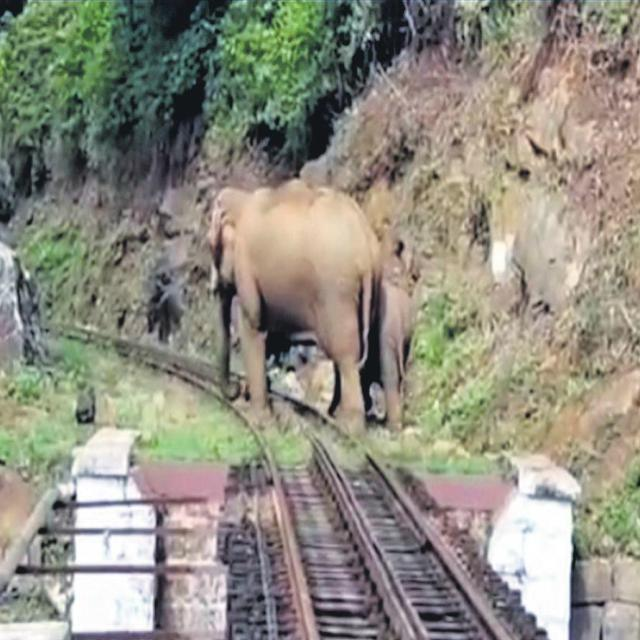Elephant: (196, 166, 380, 438), (378, 276, 422, 428)
